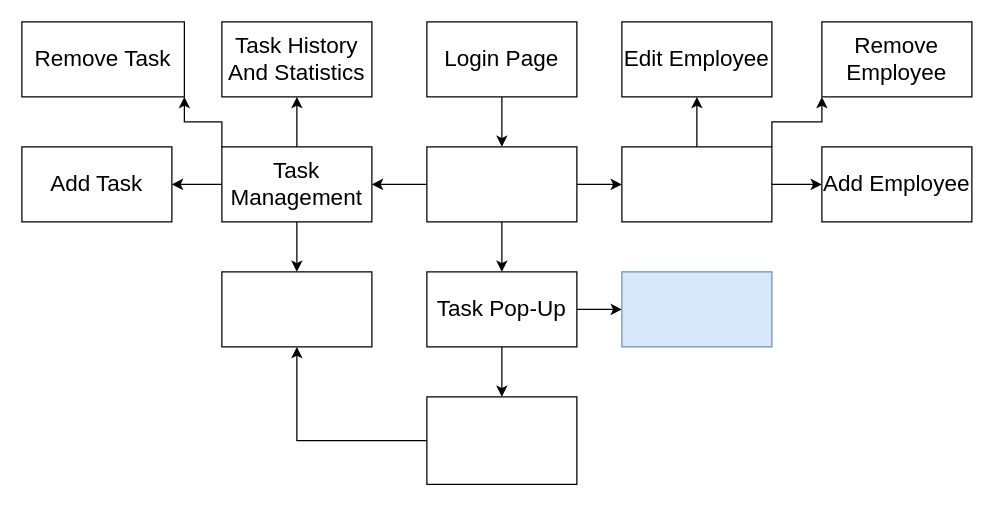
This 994x506 diagram has some shape labels left out. Here are the shapes that lost their labels. From the top down, the box of each, then its label:
(426, 146, 577, 222): Calendar
(621, 146, 772, 222): Employee Management
(221, 271, 372, 347): Edit Task
(621, 271, 772, 347): Leave Comment
(426, 396, 577, 484): Edit Button
